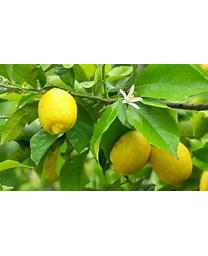lemon: (109, 130, 151, 174), (151, 139, 192, 184), (39, 88, 77, 134)
